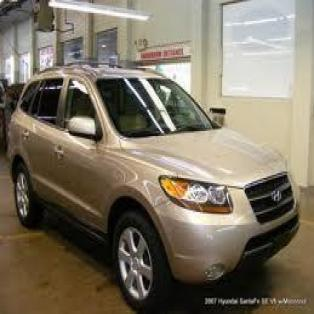Auto: (6, 50, 302, 308)
